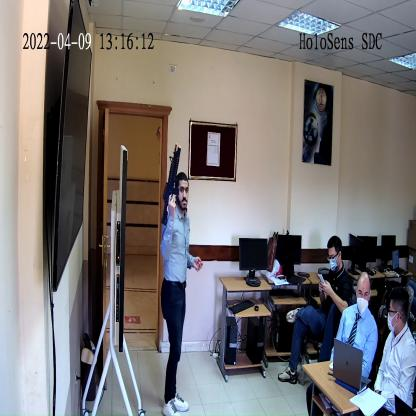handgun: (158, 147, 182, 227)
